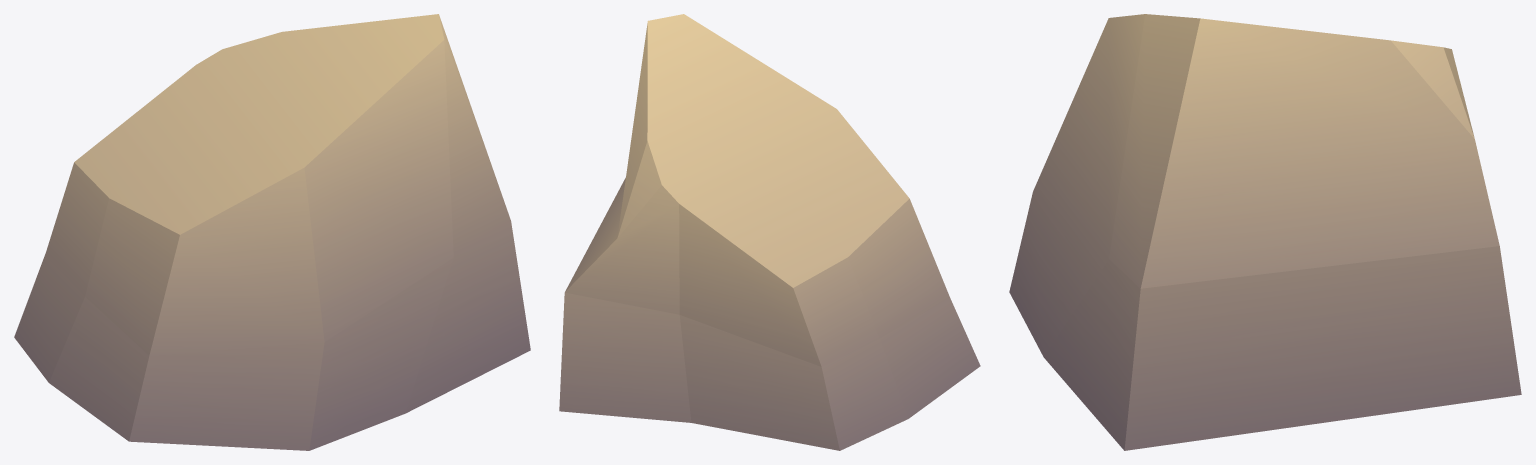
The model's file is Rock2.glb.
3 renders of one model, left to right at view 1: azimuth 30°, elevation 25°; view 2: azimuth 150°, elevation 25°; view 3: azimuth 270°, elevation 25°, orthographic. The views are drawn at different scales.
Parts seen in each view (by area): view 1: Rock2; view 2: Rock2; view 3: Rock2.
Boxes of the visible parts, x1,y1,x2,y2 form: Rock2: (14,14,530,450); Rock2: (559,14,980,450); Rock2: (1009,14,1521,450).
Bounding box in the file's own units: 1.66 × 1.3 × 1.52.
1 material, 1 textured.
